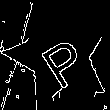P_NW: (29, 25, 90, 87)
